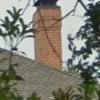Chimney: (27, 3, 80, 75)
